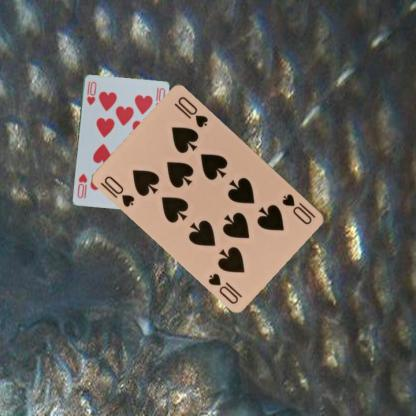10h: (84, 79, 98, 106)
10s: (280, 191, 317, 226), (102, 173, 136, 208)
